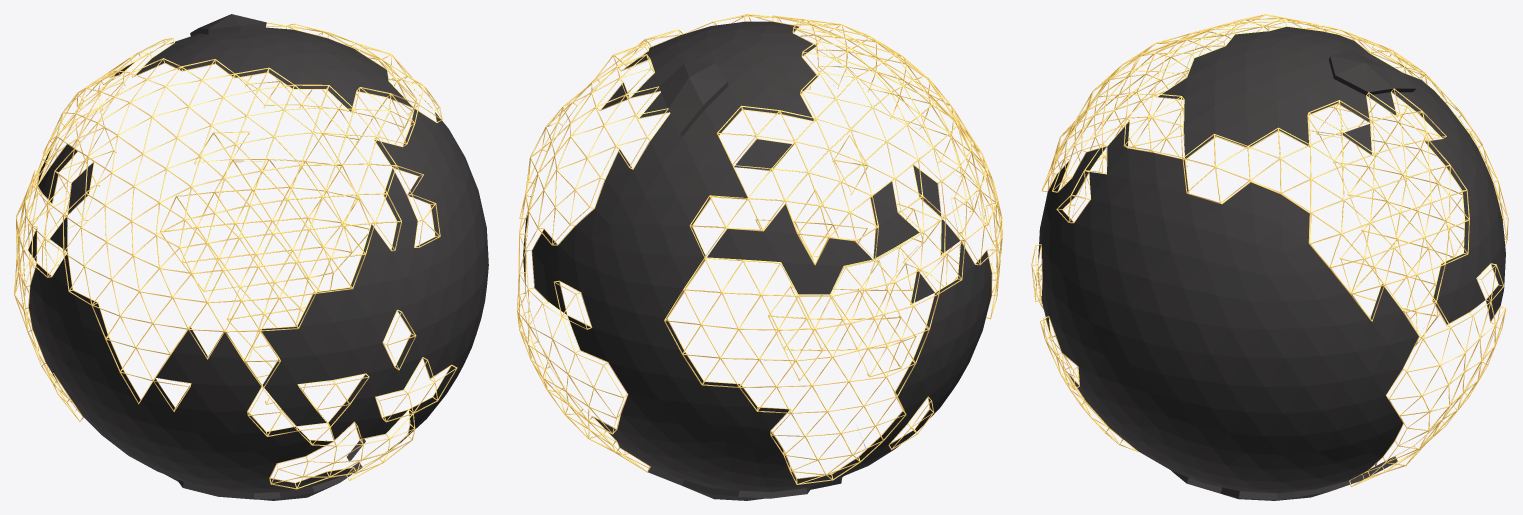
The model's file is Earth.gltf.
3 views of the same model, side by side, from view 1: azimuth 30°, elevation 25°; view 2: azimuth 150°, elevation 25°; view 3: azimuth 270°, elevation 25° (orthographic).
Parts seen in each view (by area): view 1: URF-Height, URF-Height001; view 2: URF-Height, URF-Height001; view 3: URF-Height, URF-Height001.
Part boxes in pixels (x1,y1,x2,y2): URF-Height: [28, 14, 488, 500]; URF-Height001: [14, 22, 457, 489]; URF-Height: [523, 21, 991, 500]; URF-Height001: [517, 14, 1002, 484]; URF-Height: [1038, 26, 1505, 500]; URF-Height001: [1031, 14, 1508, 486].
Size of the model in its own units: 2.01 by 2.06 by 2.04.
